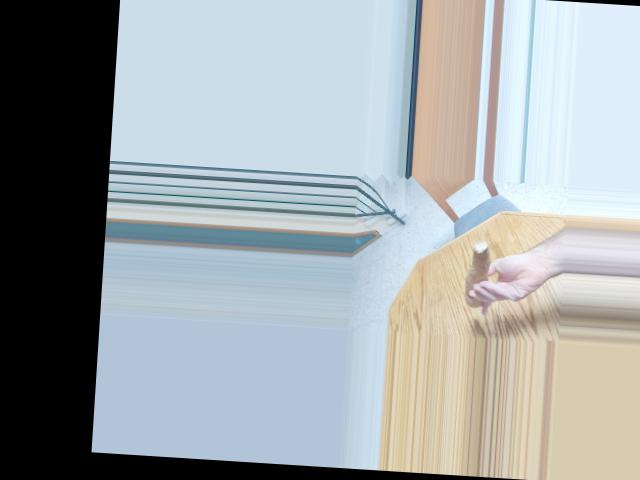sweet_potato: (461, 244, 495, 303)
